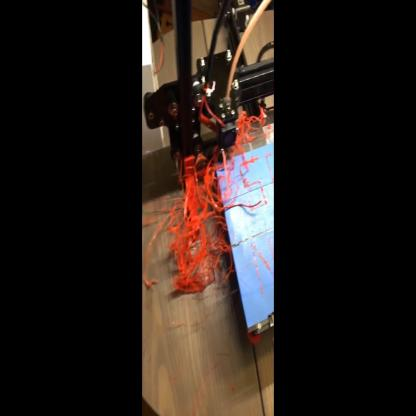fail: (167, 168, 232, 293), (236, 111, 271, 208)
